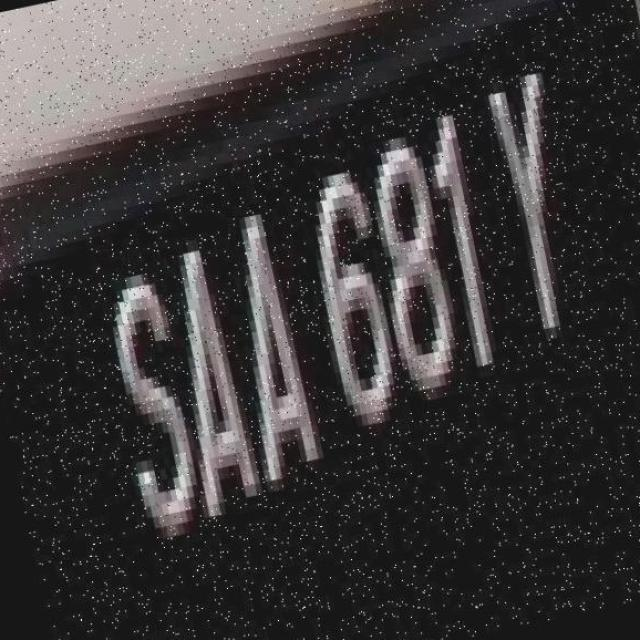license-plate: (77, 41, 616, 548)
